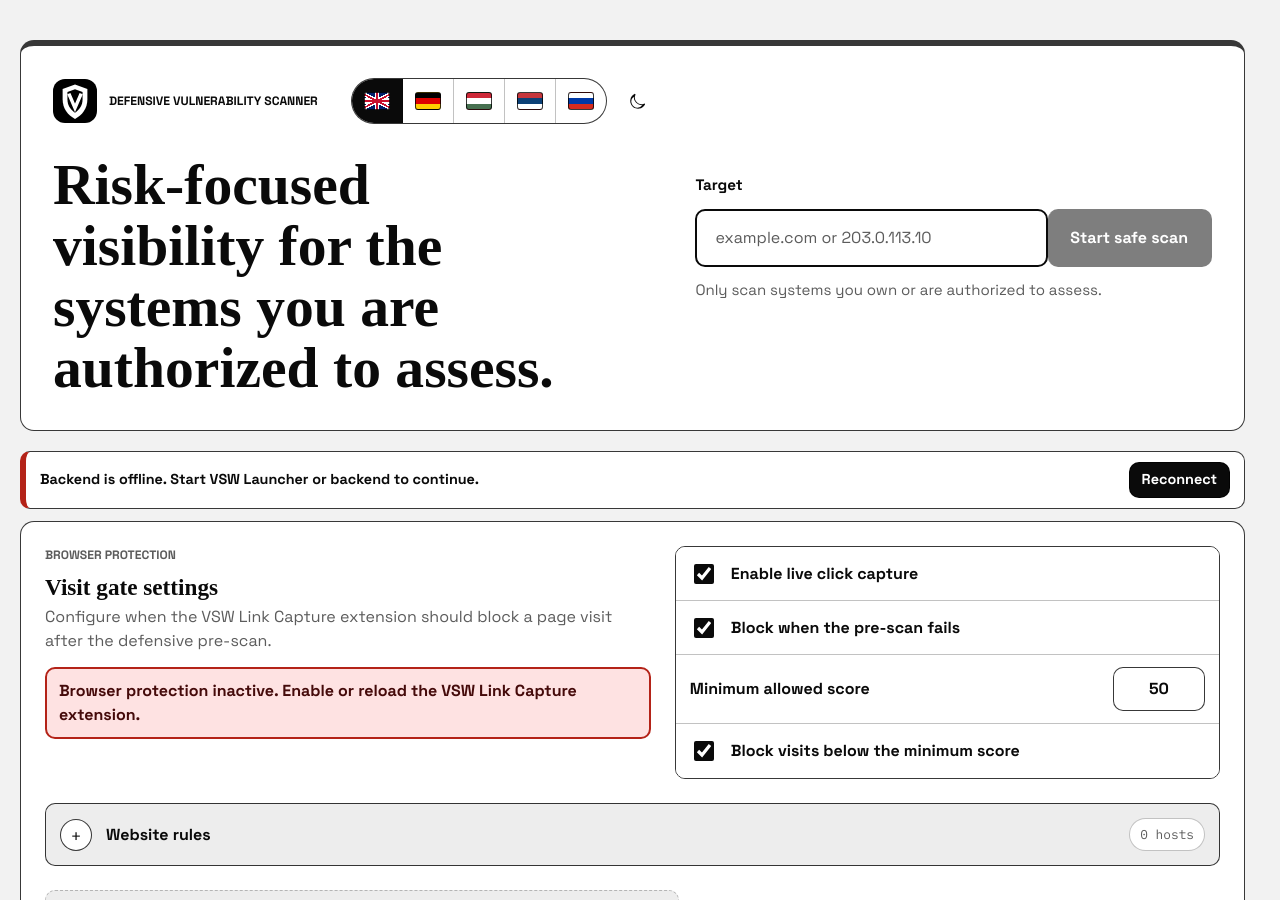
Test: AppShell › shows offline state and reconnects when the backend returns
Expected: the text "Backend is offline" is shown, [40,470,479,488]
Step 1. Click the button "Reconnect" → [1179, 480], box [1129,462,1230,498]
(page scrolled)
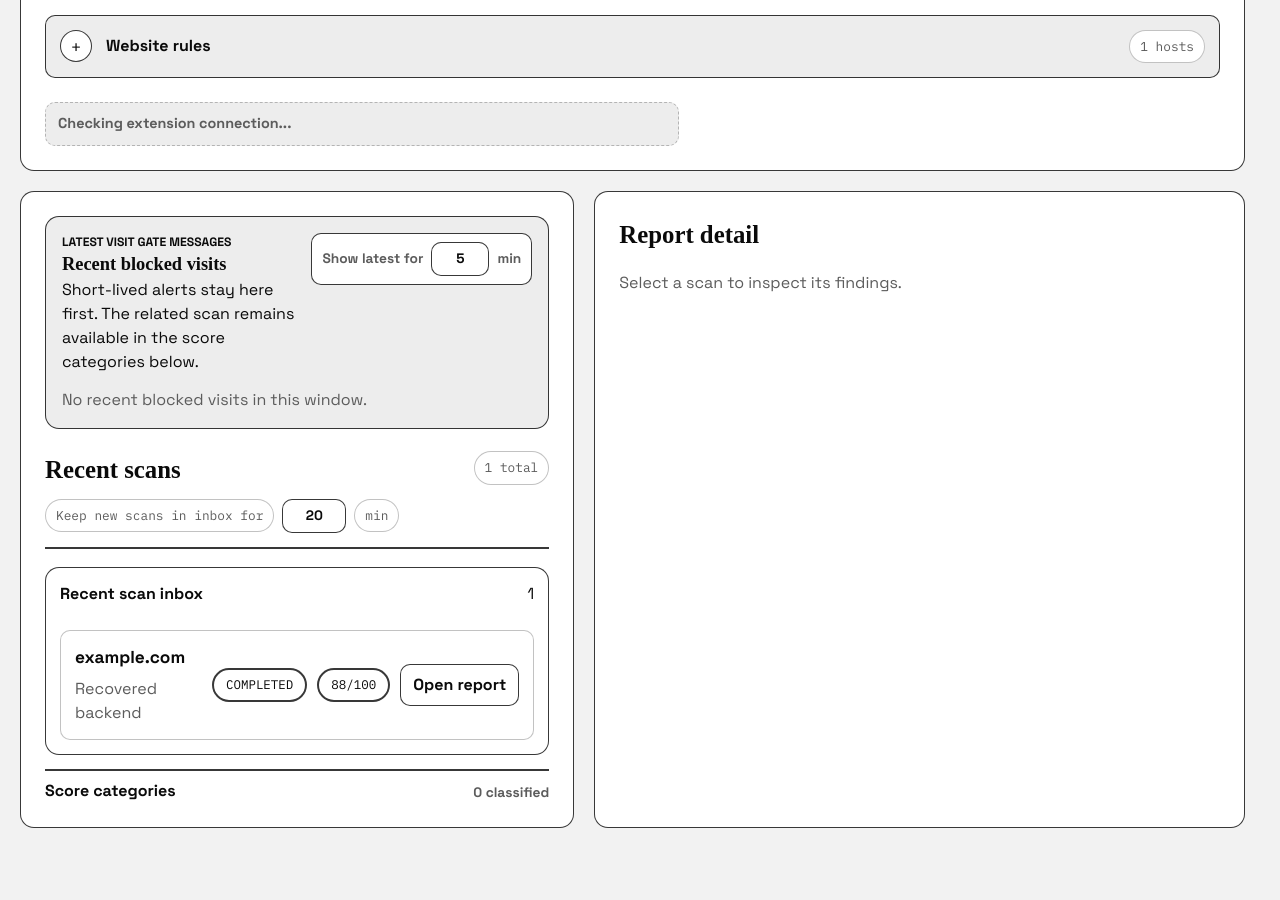
Now the text "Recovered backend" is shown, box [75,678,157,722]
